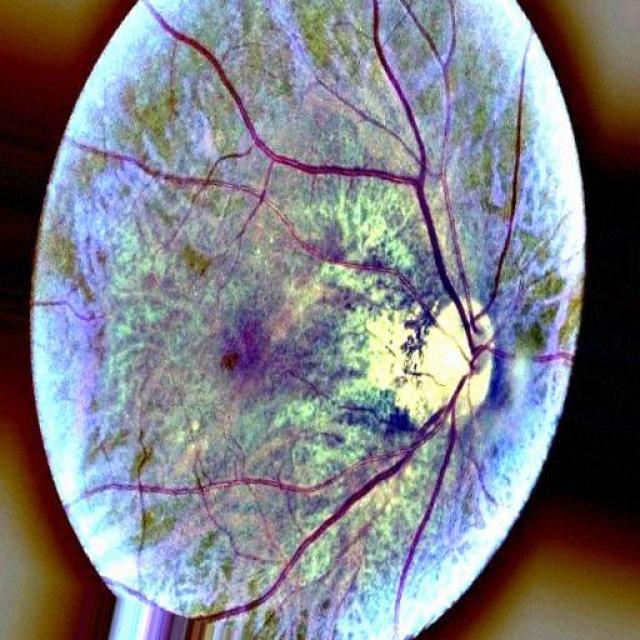Macula: (207, 317, 316, 406)
Nerves: (147, 0, 472, 349), (198, 414, 442, 622), (394, 359, 476, 624)
Optic Disk: (419, 301, 495, 422)
